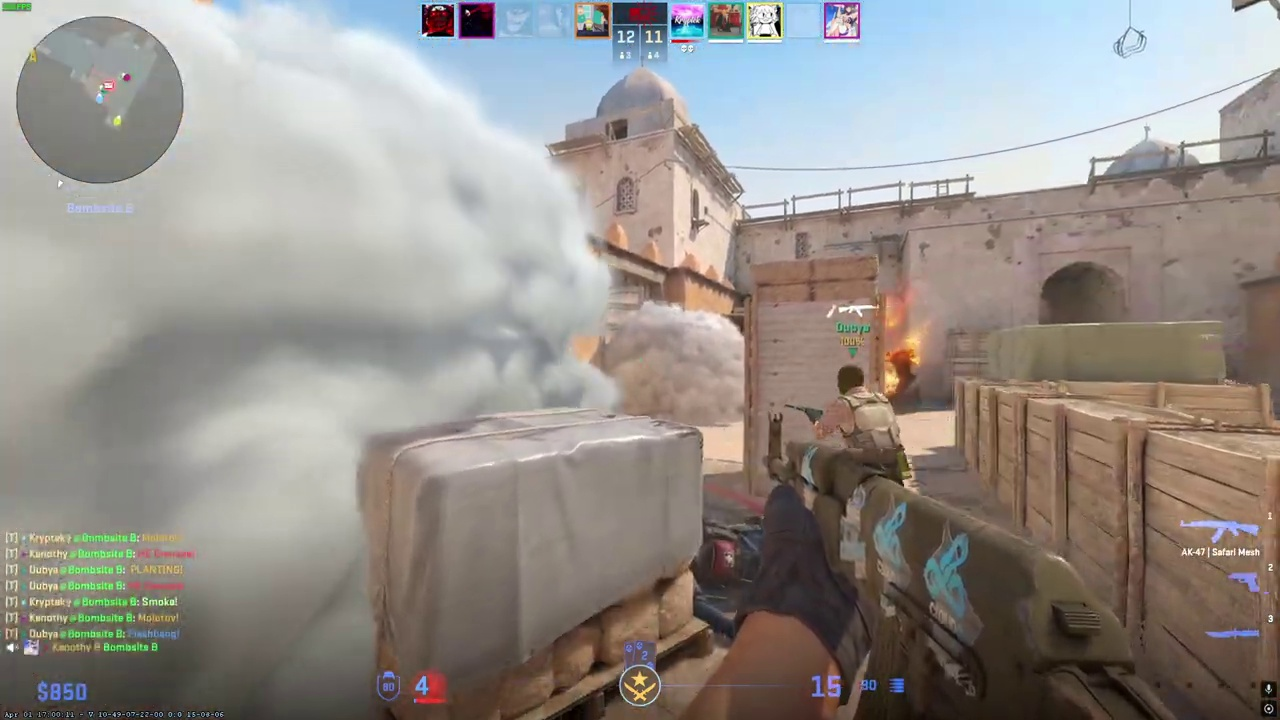Terrorist: (817, 363, 908, 489)
